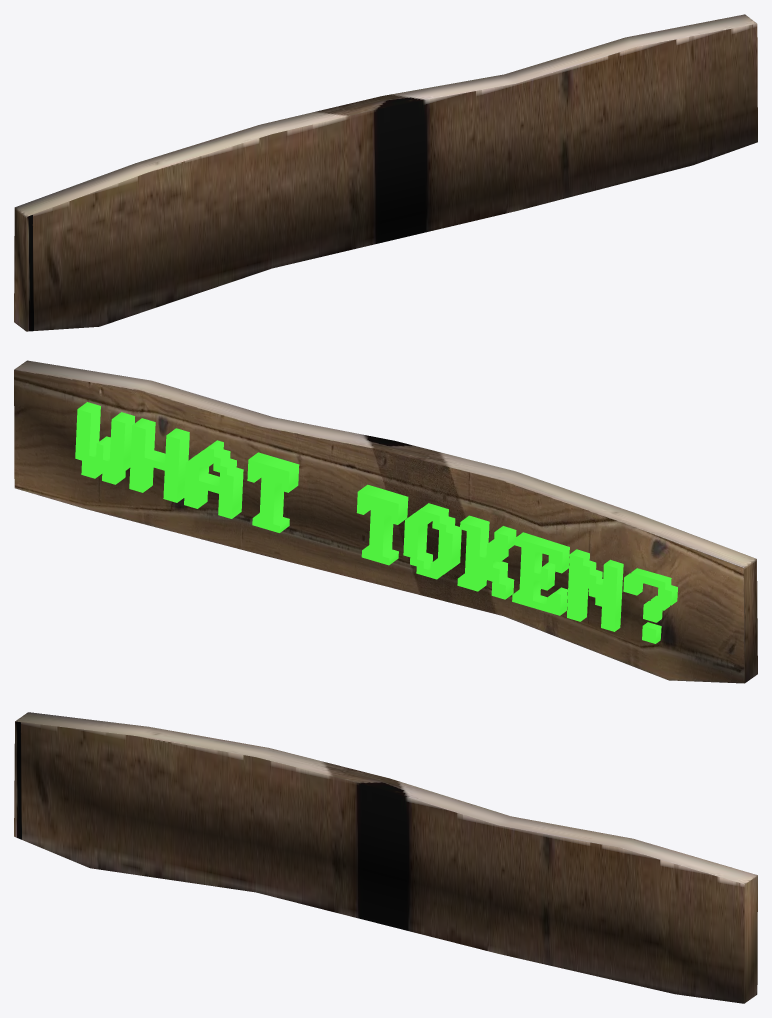
Rendered from sign2-transformed.glb.
3 views of the same model, one above another, from view 1: azimuth 30°, elevation 25°; view 2: azimuth 150°, elevation 25°; view 3: azimuth 330°, elevation 25° (orthographic).
Visible parts, largest first — view 1: 2 token; view 2: 2 token; view 3: 2 token.
Part boxes in pixels (x1=…): 2 token: x1=14, y1=14, x2=757, y2=331; 2 token: x1=14, y1=360, x2=757, y2=683; 2 token: x1=14, y1=712, x2=757, y2=1003.
Bounding box in the file's own units: 2 × 0.4048 × 0.1136.
Materials: 2 (1 with a texture image).
